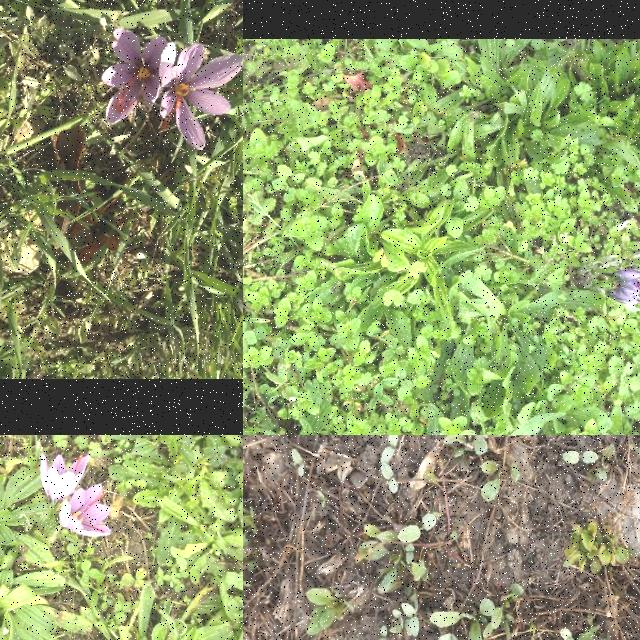flower: (161, 45, 243, 151), (102, 27, 168, 125), (59, 484, 112, 536), (40, 454, 90, 500)
overlap: (608, 268, 640, 304)
